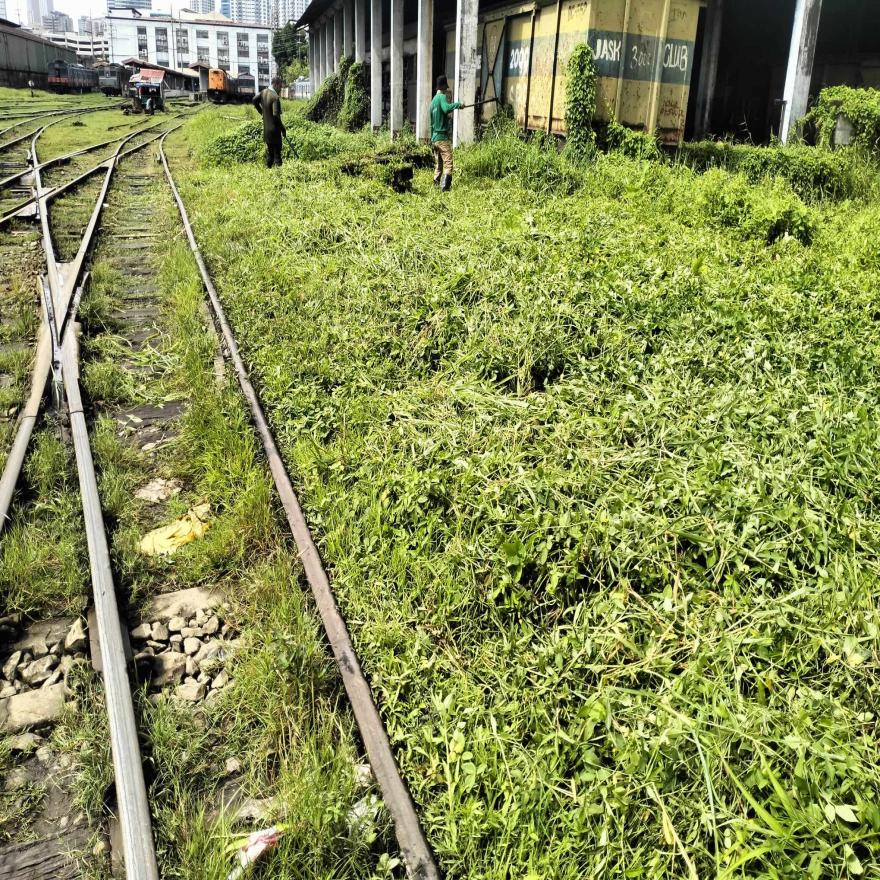railway-gap: (5, 386, 50, 447), (55, 385, 94, 441)
